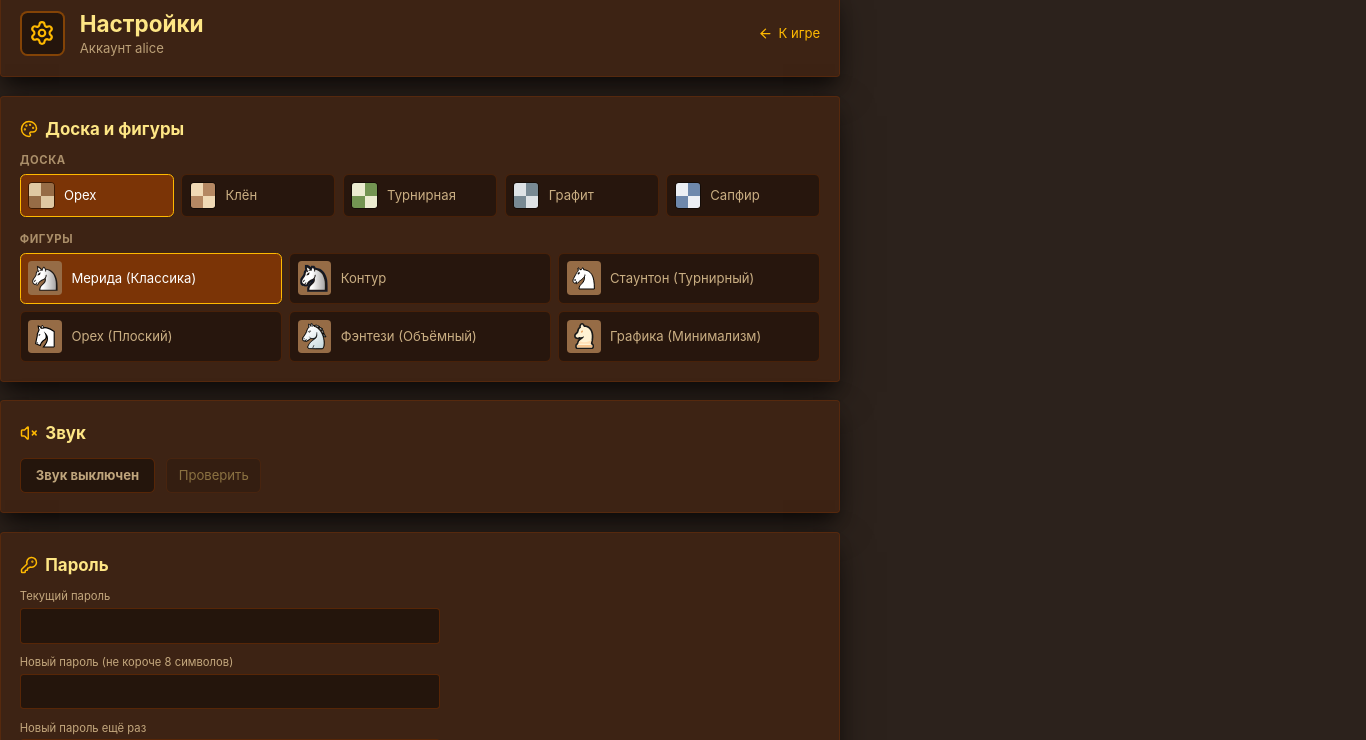
Test: Settings: смена пароля › неверный текущий пароль показывает текст сервера и токен не трогает
Type "wrong" into the password field labelled "Текущий пароль" at (230,626), box [20,608,440,644]
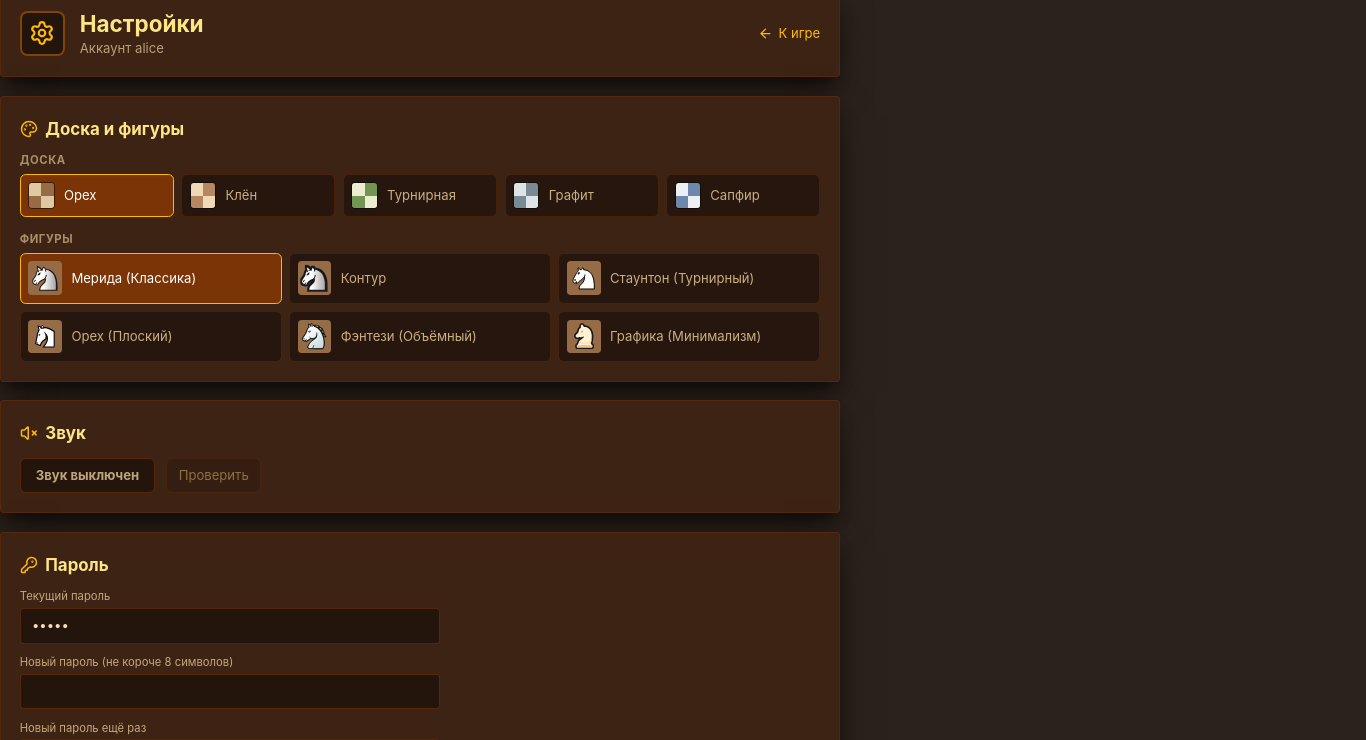
Type "new-password-1" into the password field labelled "Новый пароль (не короче 8 символов)" at (230,691), box [20,674,440,709]
(page scrolled)
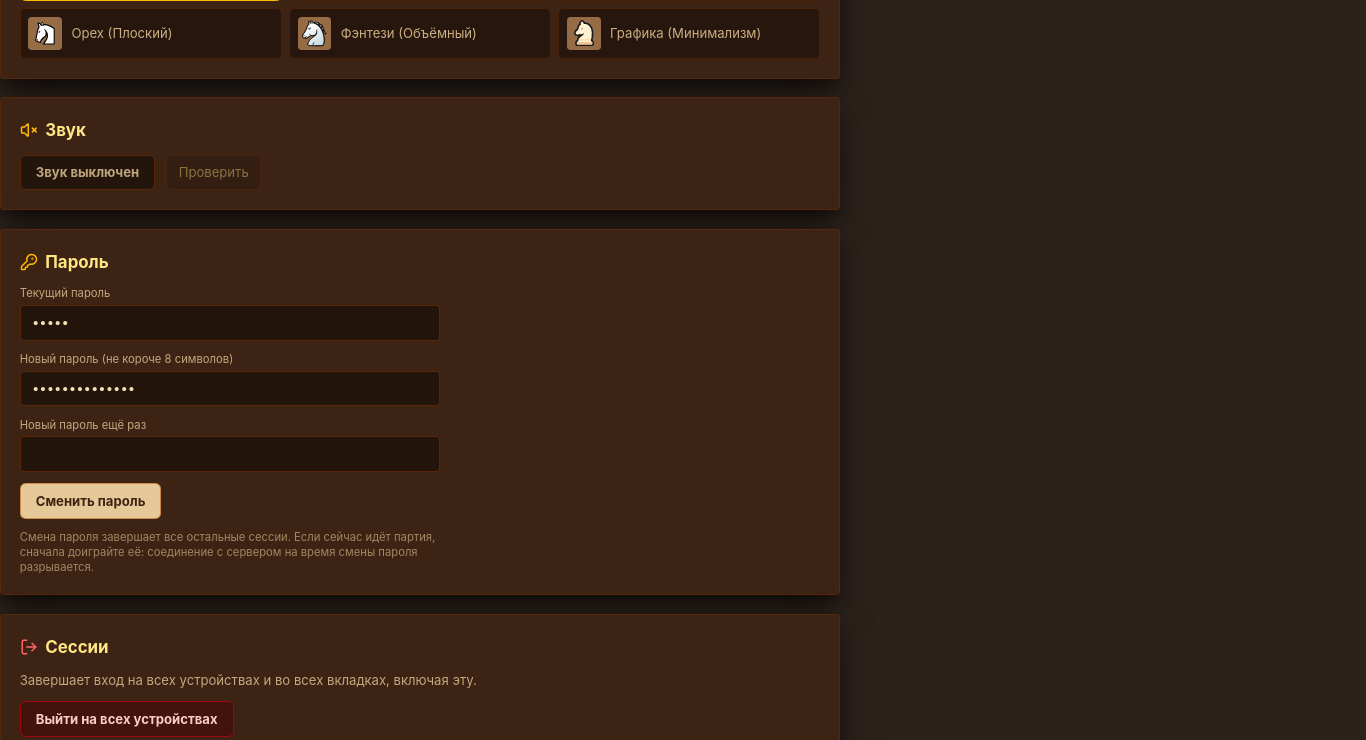
Type "new-password-1" into the password field labelled "Новый пароль ещё раз" at (230,454), box [20,436,440,472]
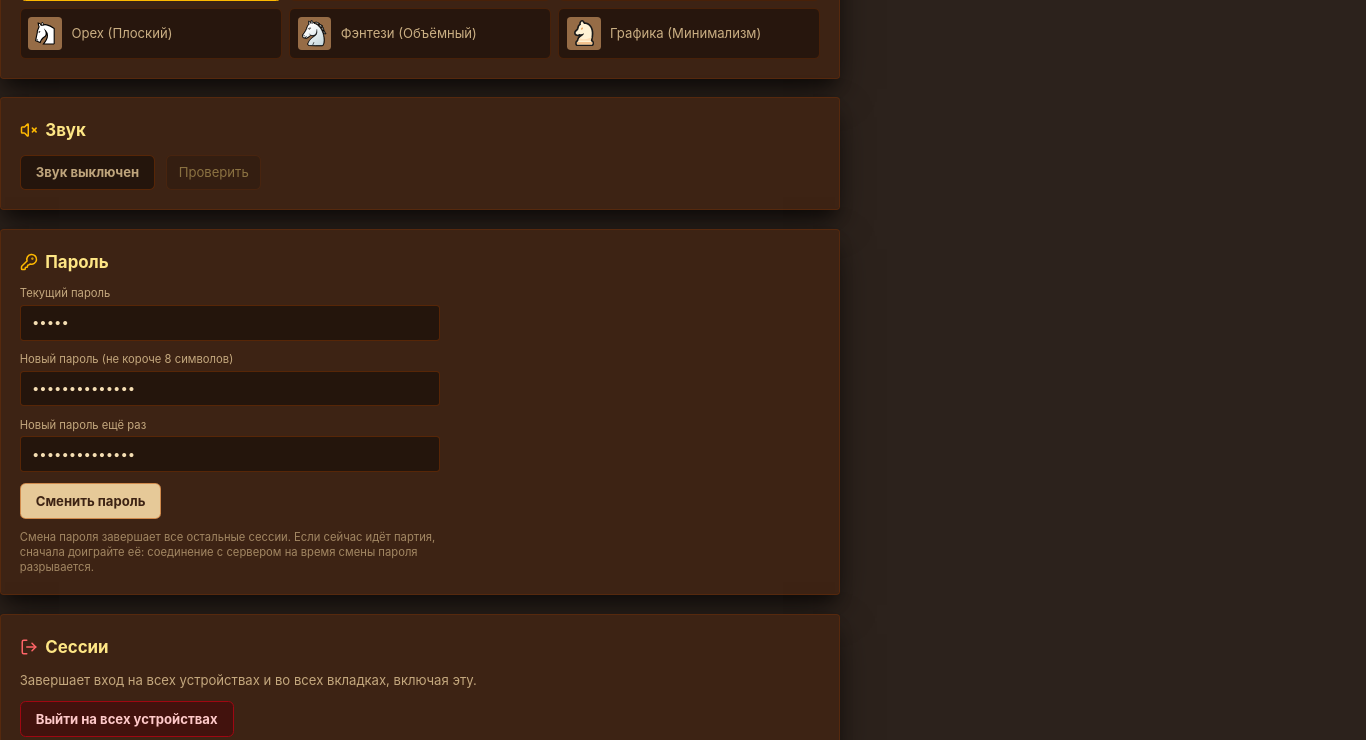
Click the button "Сменить пароль" at (91,501), box [20,483,162,519]
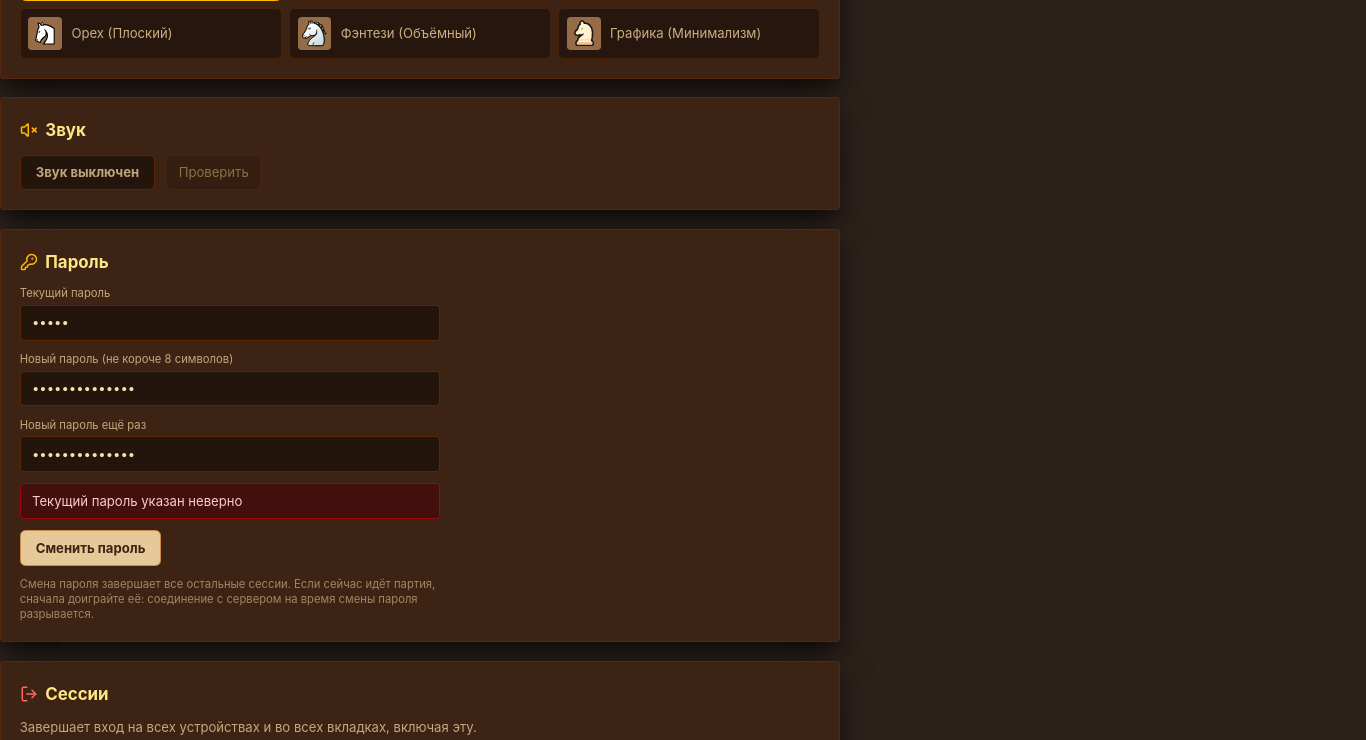
Expected: the message reads "Текущий пароль указан неверно", [32,493,242,509]
